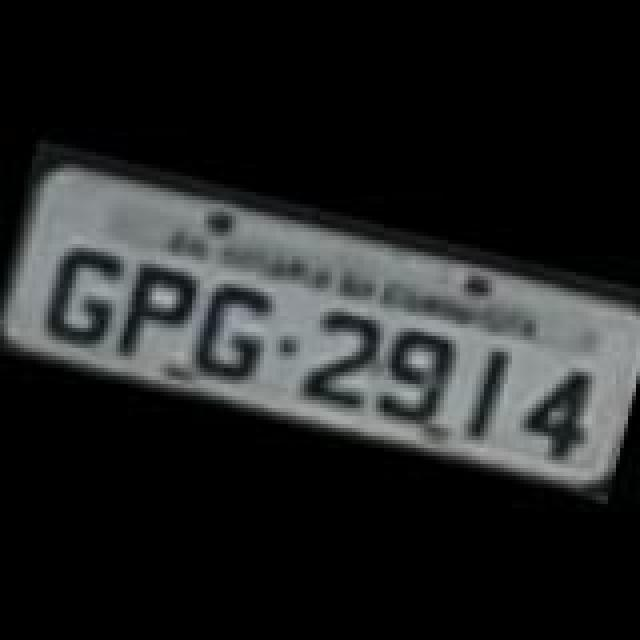1: (458, 340, 518, 444)
2: (296, 302, 392, 418)
4: (514, 352, 606, 464)
9: (362, 320, 454, 432)
G: (32, 238, 128, 354), (184, 274, 280, 390)
P: (108, 254, 204, 370)
